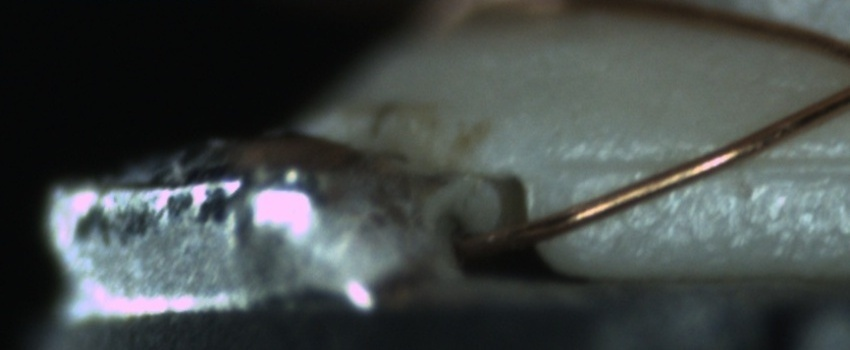DL: (564, 131, 847, 194)
